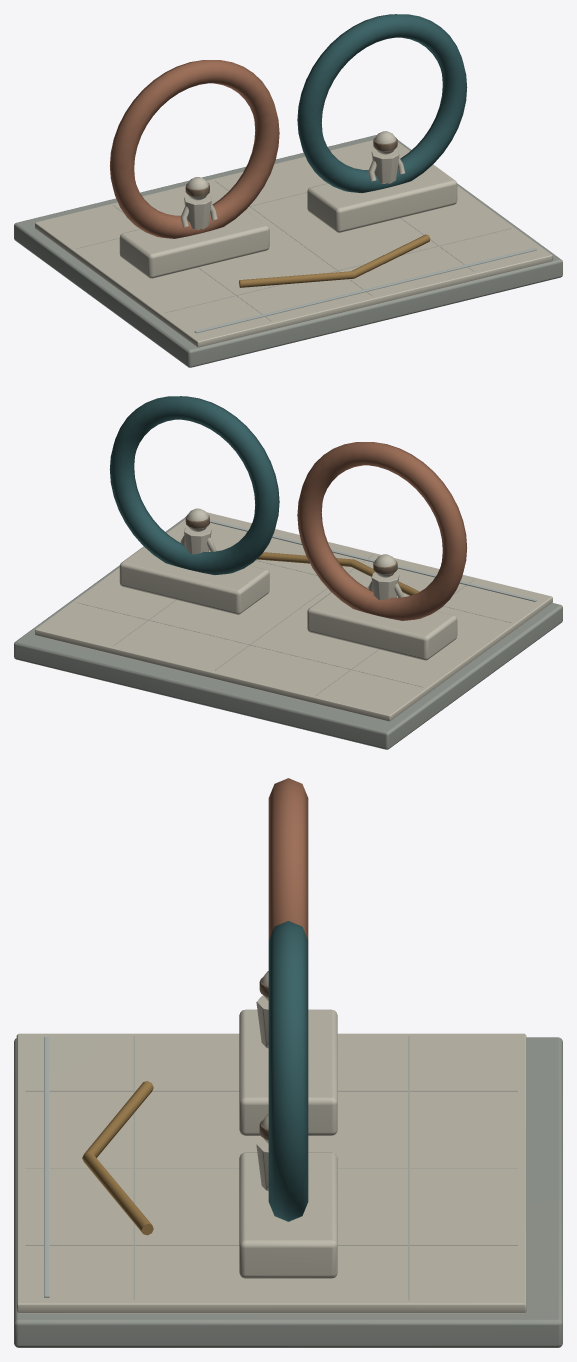
Rendered from idea-1a77ed68.glb.
The picture shows the model from 3 angles, top to bottom: view 1: azimuth 30°, elevation 25°; view 2: azimuth 150°, elevation 25°; view 3: azimuth 270°, elevation 25°; orthographic projection. The views are drawn at different scales.
Visible parts, largest first — view 1: 3D Portals; view 2: 3D Portals; view 3: 3D Portals.
Boxes of the visible parts, bbox=[...] form: 3D Portals: bbox=[14, 14, 562, 367]; 3D Portals: bbox=[14, 396, 562, 749]; 3D Portals: bbox=[14, 778, 562, 1347].
Size of the model in its own units: 4.8 by 2.69 by 3.9.
